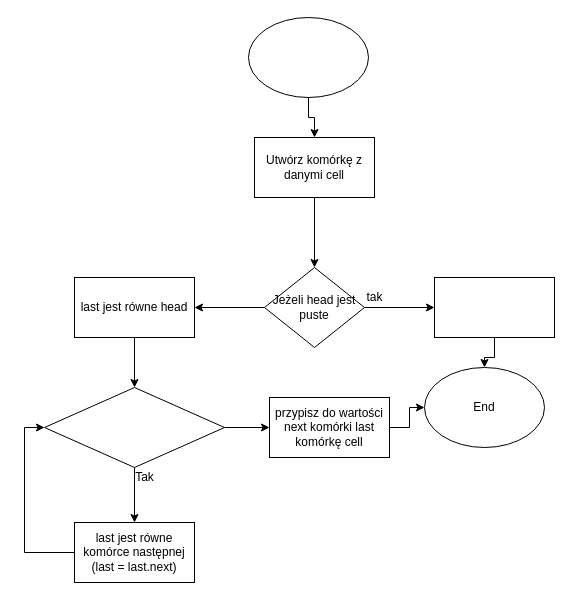
Image size: 572x600. Some labels were removed from this diagram. Each missing label, with the box of its shape:
Czy last ma kolejną komórkę?: (44, 386, 224, 468)
head jest równe cell: (434, 276, 554, 338)
start: (248, 16, 368, 98)
